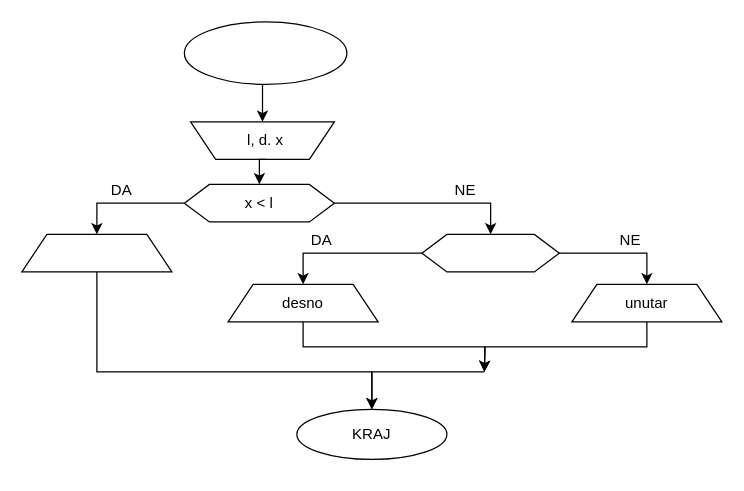
The diagram is 744 pixels wide and 491 high, and some of its shapes have lost their labels. The centre of each missing label's shape, as x and y in pixels:
lijevo: point (96, 252)
Pocetak: point (265, 52)
x > d: point (490, 252)
